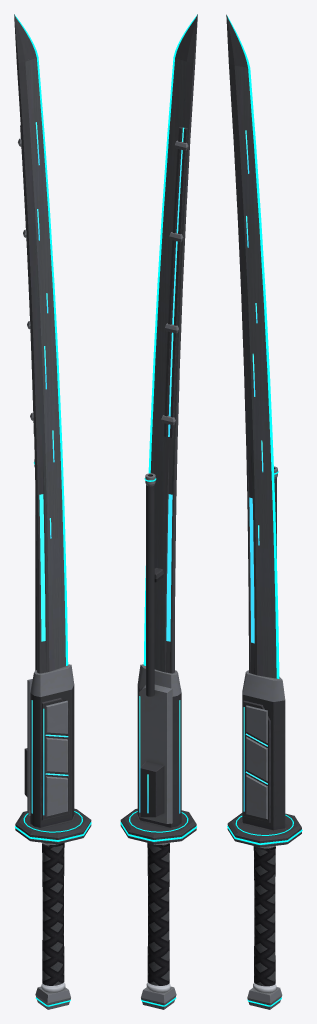
3 renders of one model, left to right at view 1: azimuth 30°, elevation 25°; view 2: azimuth 150°, elevation 25°; view 3: azimuth 330°, elevation 25°, orthographic.
Visible parts, largest first — view 1: kat_blade, kat_shin, kat_dark, kat_plate, kat_wrap, glow_kat_edge, glow_kat_line, glow_kat_rim; view 2: kat_dark, kat_blade, kat_shin, kat_plate, kat_wrap, glow_kat_line, glow_kat_edge, glow_kat_rim; view 3: kat_blade, kat_dark, kat_shin, kat_plate, kat_wrap, glow_kat_edge, glow_kat_line, glow_kat_rim.
Part boxes in pixels (x1,y1,x2,y2): kat_blade: [25, 58, 65, 671]; kat_shin: [14, 14, 49, 673]; kat_dark: [15, 125, 91, 844]; kat_plate: [18, 138, 74, 1009]; kat_wrap: [42, 843, 64, 985]; glow_kat_edge: [15, 15, 68, 665]; glow_kat_line: [31, 122, 68, 815]; glow_kat_rim: [15, 462, 91, 1006]; kat_dark: [120, 127, 196, 844]; kat_blade: [150, 58, 186, 671]; kat_shin: [162, 14, 197, 673]; kat_plate: [137, 140, 188, 1009]; kat_wrap: [147, 843, 169, 985]; glow_kat_line: [139, 127, 184, 813]; glow_kat_edge: [143, 15, 196, 665]; glow_kat_rim: [120, 478, 196, 1006]; kat_blade: [234, 65, 276, 678]; kat_dark: [227, 467, 301, 847]; kat_shin: [226, 14, 256, 675]; kat_plate: [242, 466, 285, 1009]; kat_wrap: [253, 846, 275, 986]; glow_kat_edge: [227, 15, 279, 678]; glow_kat_line: [243, 130, 267, 811]; glow_kat_rim: [227, 471, 302, 1006].
Size of the model in its own units: 0.1275 by 1.73 by 0.113.
9 materials, 6 textured.
